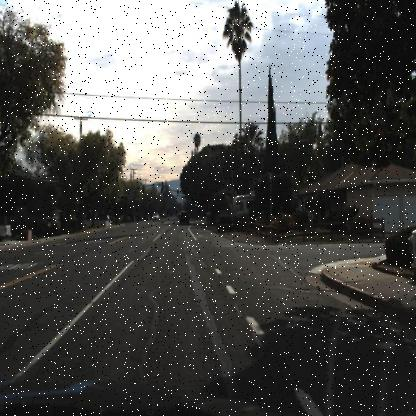car: (174, 207, 192, 230), (216, 210, 234, 232)
truck: (232, 194, 256, 217)
